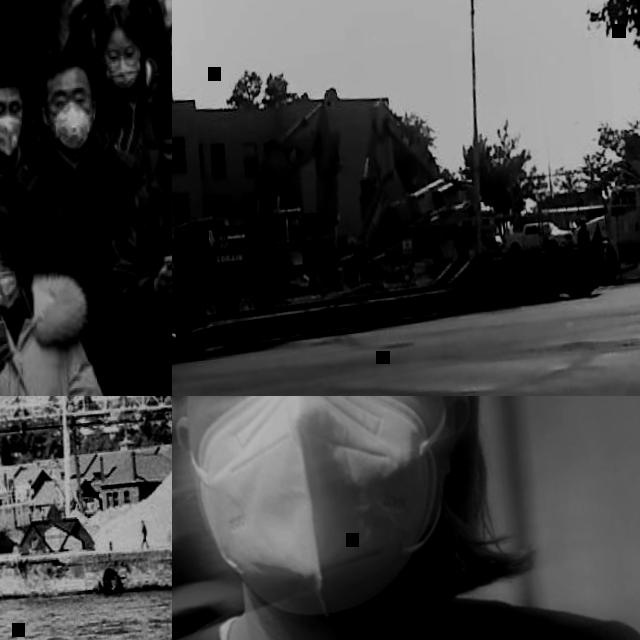Mask: (183, 396, 463, 625), (45, 101, 97, 155), (104, 56, 145, 93), (0, 111, 24, 157), (0, 274, 20, 312), (158, 149, 172, 192), (99, 0, 133, 9)
NO-Hardhat: (37, 45, 92, 87), (92, 8, 138, 44), (145, 78, 172, 139), (0, 199, 23, 262), (0, 57, 24, 97), (580, 218, 587, 226)
NO-Safety Vest: (15, 150, 157, 390), (125, 181, 172, 365), (0, 309, 89, 396), (92, 88, 164, 187), (0, 0, 38, 69), (0, 150, 17, 234), (137, 519, 151, 551), (142, 525, 148, 537)
Person: (172, 396, 640, 640), (0, 35, 172, 396), (83, 77, 172, 379), (0, 191, 122, 396), (74, 2, 172, 195), (0, 57, 64, 278), (62, 271, 172, 396), (60, 0, 172, 107), (0, 0, 69, 129), (48, 0, 102, 36), (576, 218, 592, 249)
Safety Cone: (593, 223, 604, 248), (542, 227, 552, 251)
machinery: (219, 86, 360, 308), (350, 88, 504, 275), (579, 154, 640, 279)
vehicle: (503, 218, 575, 256)
